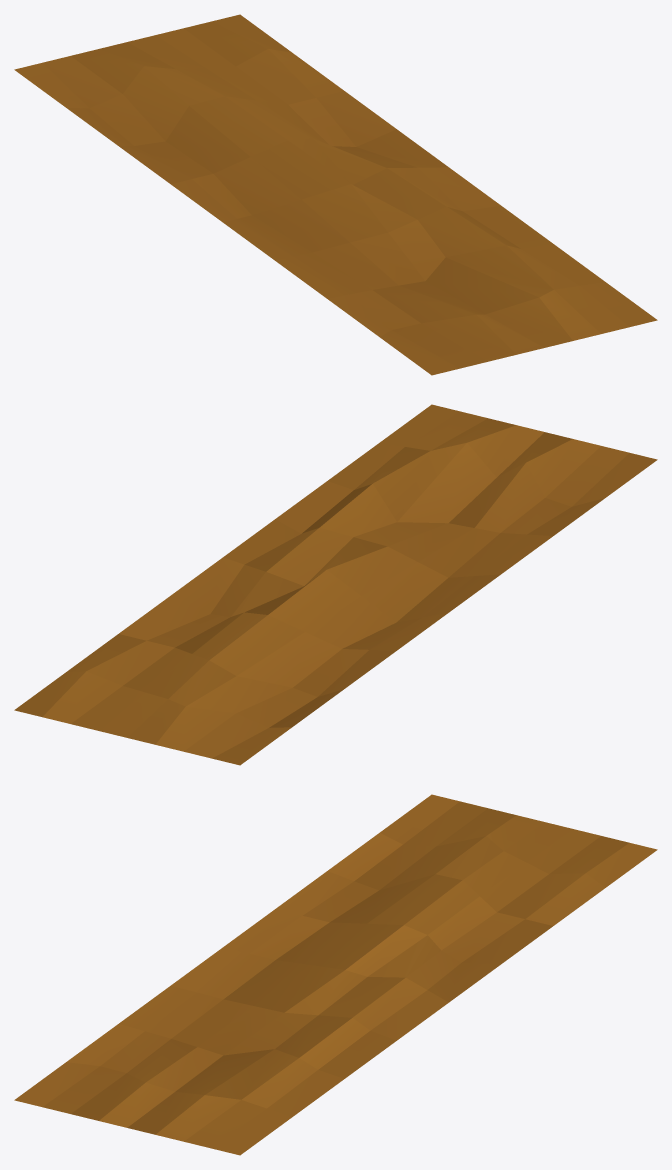
Rendered from cGround_B_Under_1_.obj.
3 renders of one model, top to bottom at view 1: azimuth 30°, elevation 25°; view 2: azimuth 150°, elevation 25°; view 3: azimuth 330°, elevation 25°, orthographic.
Visible parts, largest first — view 1: cGround_B_Under_1_; view 2: cGround_B_Under_1_; view 3: cGround_B_Under_1_.
Boxes of the visible parts, bbox=[...] form: cGround_B_Under_1_: bbox=[14, 14, 657, 375]; cGround_B_Under_1_: bbox=[14, 404, 657, 765]; cGround_B_Under_1_: bbox=[14, 794, 657, 1155].
Bounding box in the file's own units: 10 × 0.9464 × 32.
